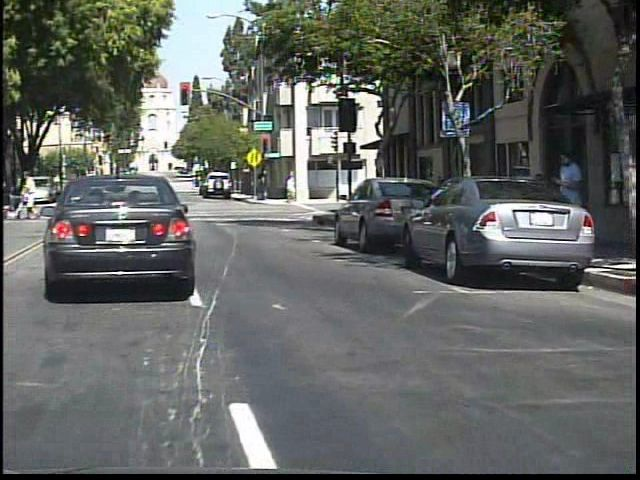person: (549, 143, 585, 265), (28, 172, 50, 221), (2, 175, 18, 210), (35, 174, 36, 208)
